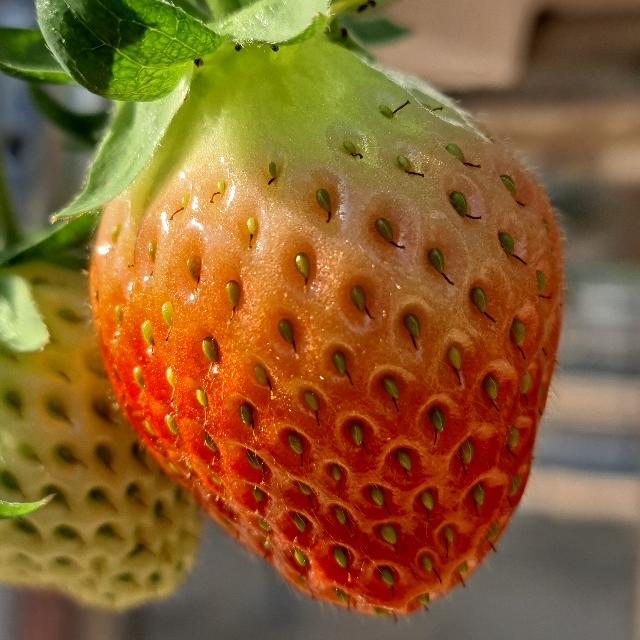Health_100: (89, 39, 563, 616)
